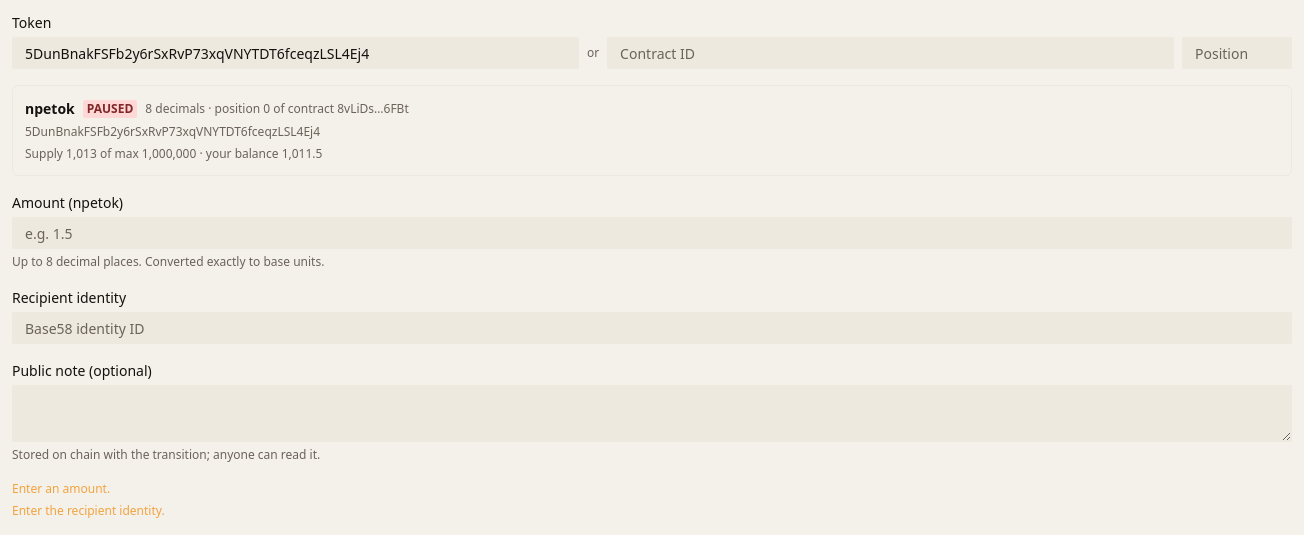
Scenario: TokenOperationForm › shows what blocks review instead of offering it
Type "1" into the field named "Amount".
click(652, 233); type("1")  # box [12,217,1292,249]
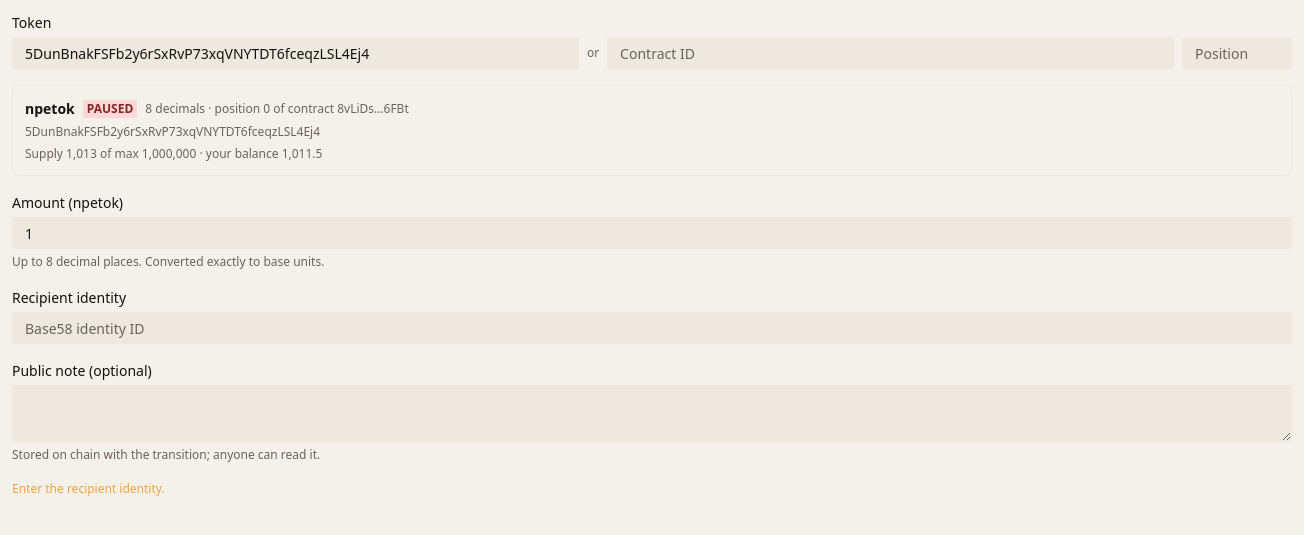
Type "7ysNPVoaVZvHWAC7hGn3EmYsbyzizfu8a9Teq3zF6atm" into the field named "Recipient identity".
click(652, 328); type("7ysNPVoaVZvHWAC7hGn3EmYsbyzizfu8a9Teq3zF6atm")  # box [12,312,1292,344]
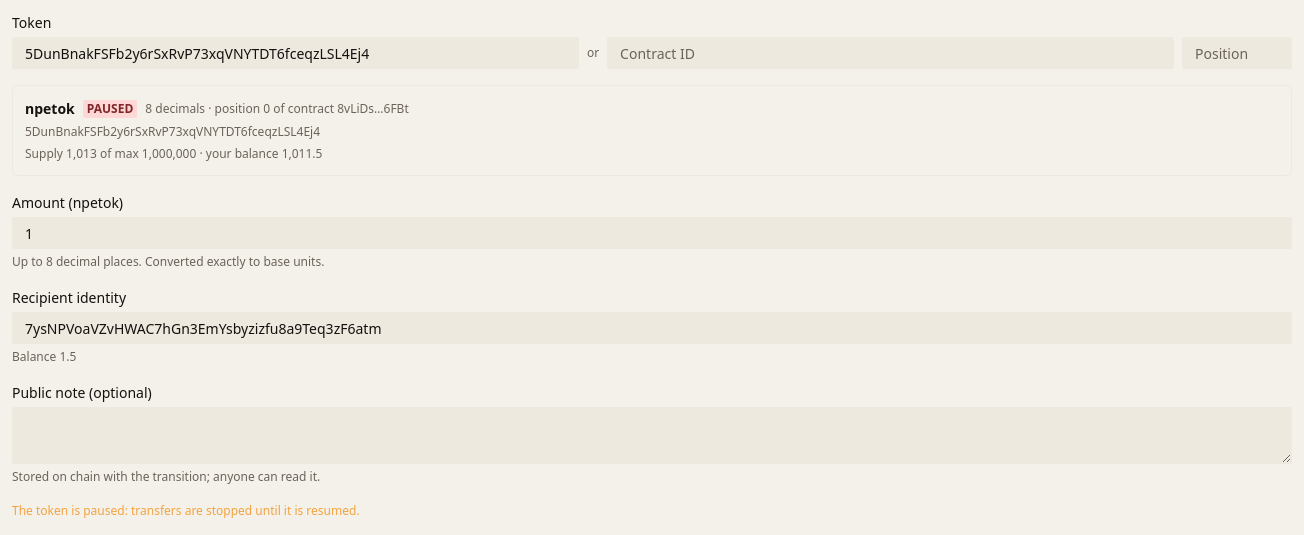
Expected: the text "The token is paused: transfers are stopped until it is resumed." is shown, [12,502,360,518]
